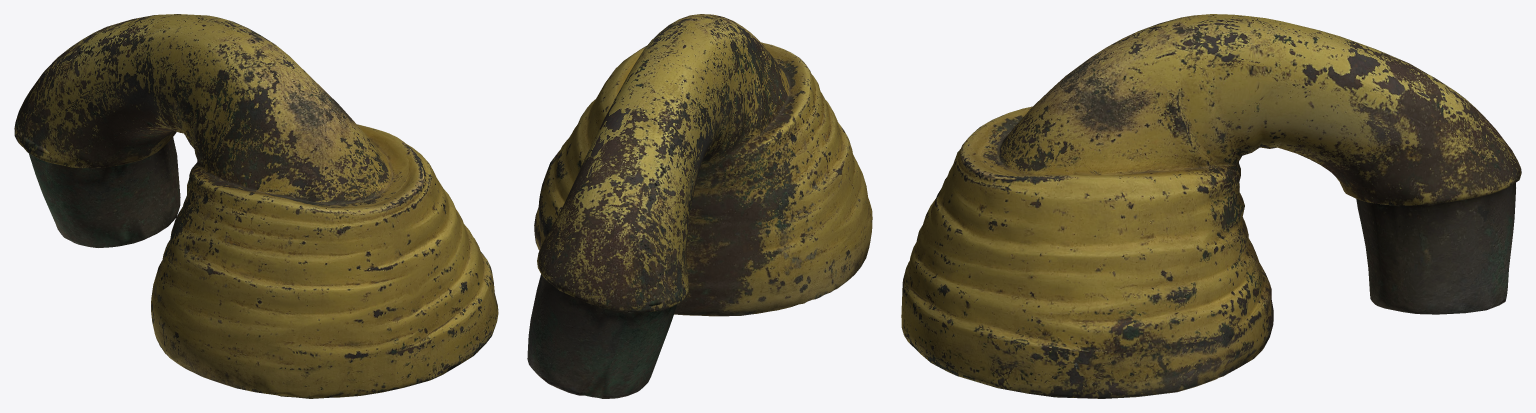
File: yanguan.FBX
3 renders of one model, left to right at view 1: azimuth 30°, elevation 25°; view 2: azimuth 150°, elevation 25°; view 3: azimuth 270°, elevation 25°, orthographic. The views are drawn at different scales.
Parts seen in each view (by area): view 1: Group38792; view 2: Group38792; view 3: Group38792.
Part boxes in pixels (<box>): Group38792: <box>14,14,498,398</box>; Group38792: <box>527,14,872,398</box>; Group38792: <box>901,14,1521,398</box>.
Bounding box in the file's own units: 845 × 742 × 1411.
Materials: 1 (1 with a texture image).
